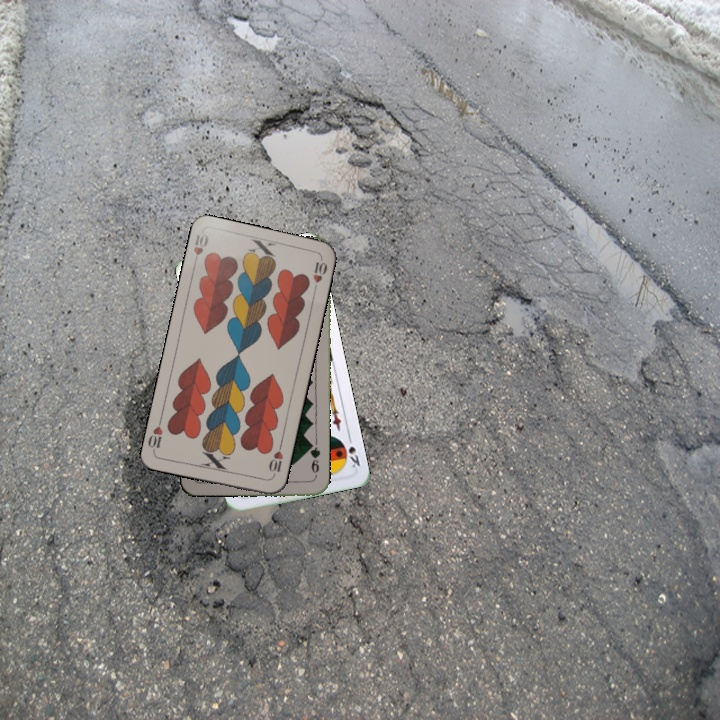G9: (305, 440, 323, 475)
H10: (189, 230, 211, 269), (265, 440, 286, 480)
SK: (339, 431, 363, 470)
